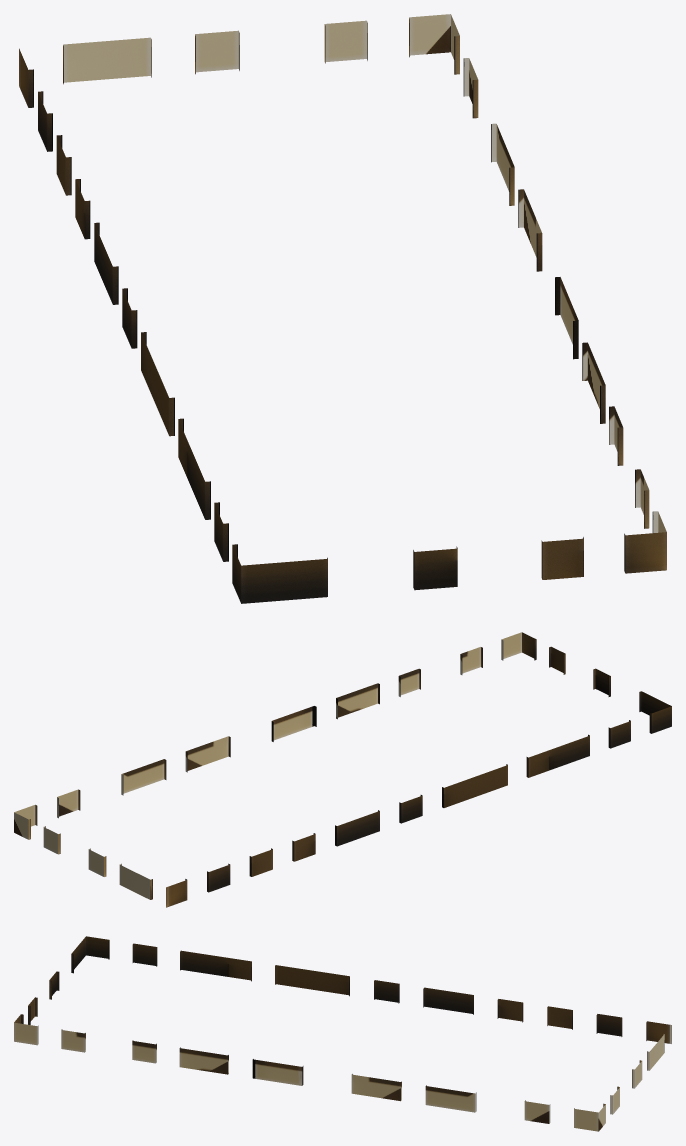
The model's file is Building05_LVL02_Wall.fbx.
3 views of the same model, one above another, from view 1: azimuth 30°, elevation 25°; view 2: azimuth 150°, elevation 25°; view 3: azimuth 270°, elevation 25° (orthographic). The views are drawn at different scales.
Parts seen in each view (by area): view 1: Building05_LVL02_Wall; view 2: Building05_LVL02_Wall; view 3: Building05_LVL02_Wall.
Boxes of the visible parts, left/top/right/bottom form: Building05_LVL02_Wall: left=19, top=14, right=666, bottom=603; Building05_LVL02_Wall: left=14, top=632, right=671, bottom=907; Building05_LVL02_Wall: left=14, top=936, right=671, bottom=1131.
Bounding box in the file's own units: 29.32 × 1.48 × 46.26.
1 material, 1 textured.
